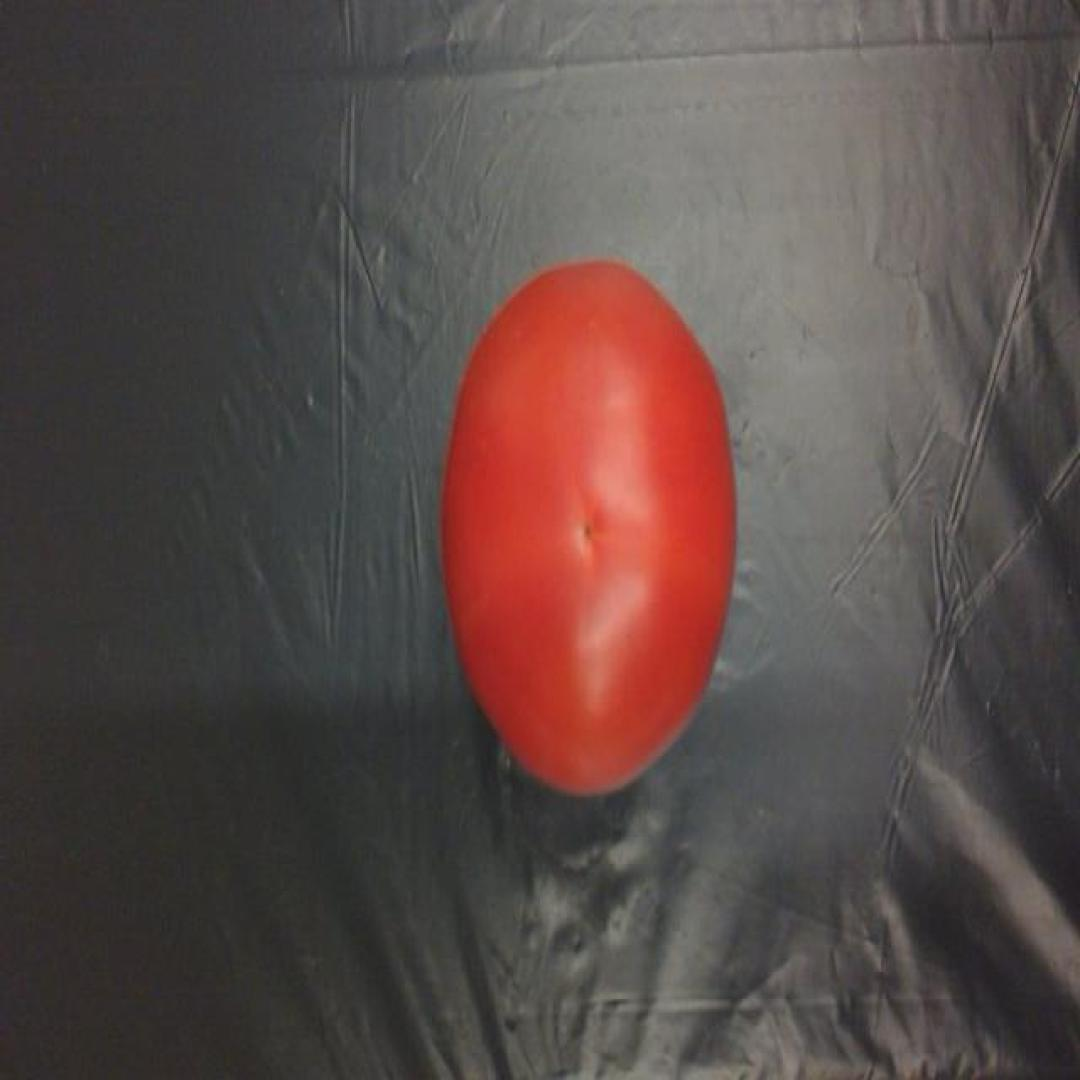matang: (442, 258, 738, 802)
